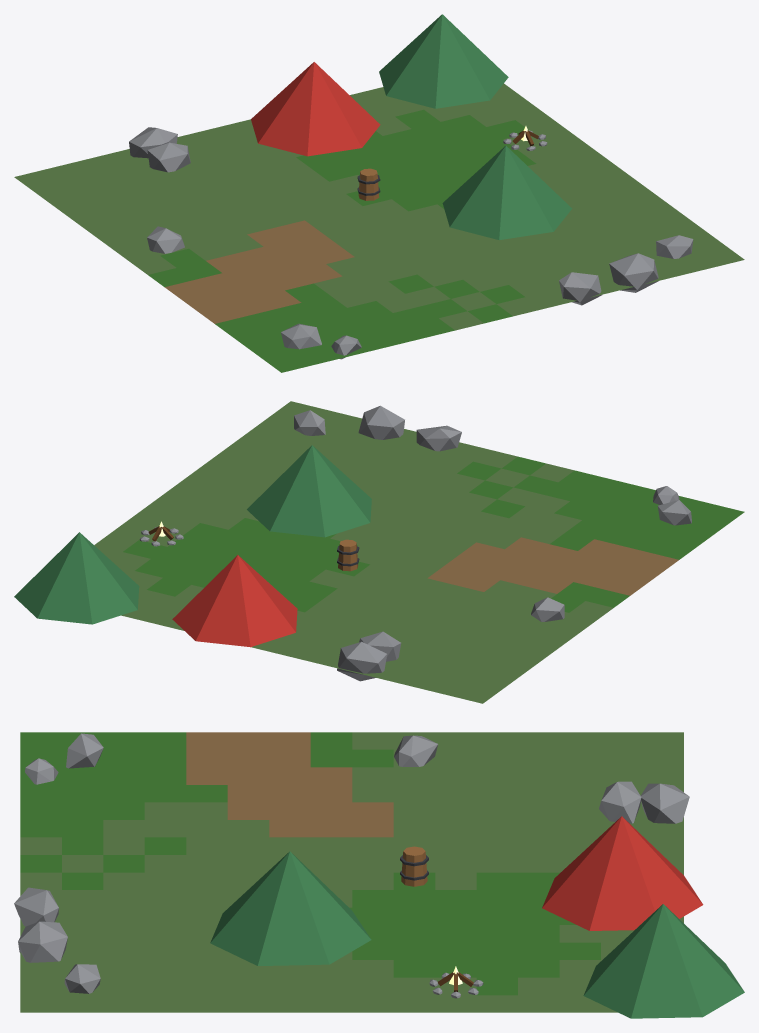
The model's file is chunk_9_15.glb.
3 renders of one model, top to bottom at view 1: azimuth 30°, elevation 25°; view 2: azimuth 150°, elevation 25°; view 3: azimuth 270°, elevation 25°, orthographic. The views are drawn at different scales.
Visible parts, largest first — view 1: chunk_9_15; view 2: chunk_9_15; view 3: chunk_9_15.
Part boxes in pixels (<box>): chunk_9_15: <box>14,14,744,372</box>; chunk_9_15: <box>14,401,744,703</box>; chunk_9_15: <box>14,732,744,1018</box>.
Size of the model in its own units: 16.34 by 2.74 by 17.62.
